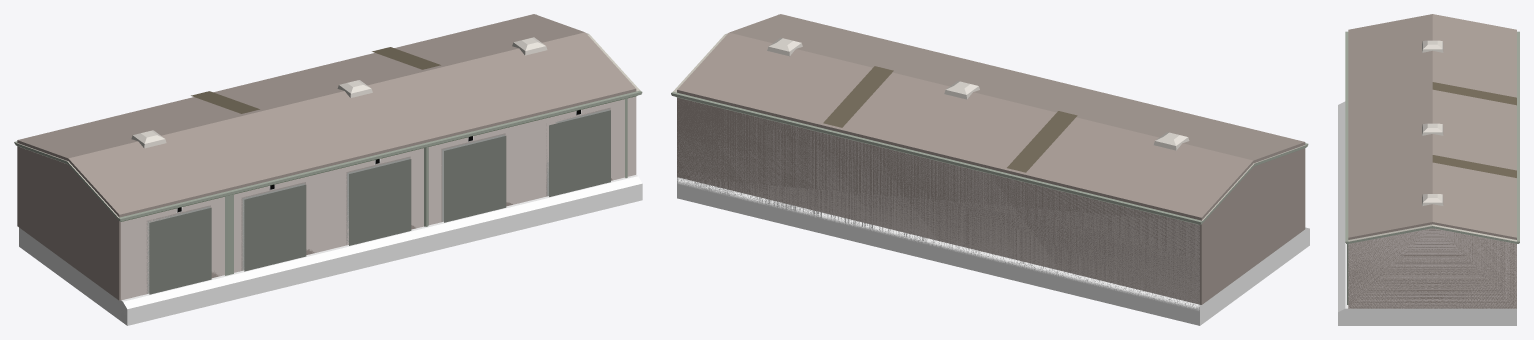
The model's file is s_warehouse_storage_5bay.dae.
The picture shows the model from 3 angles, left to right: view 1: azimuth 30°, elevation 25°; view 2: azimuth 150°, elevation 25°; view 3: azimuth 270°, elevation 25°; orthographic projection. The views are drawn at different scales.
Parts seen in each view (by area): view 1: warehouse_storage_a20, warehouse_storage_a300, warehouse_storage_a600, Colmesh-1; view 2: warehouse_storage_a20, warehouse_storage_a600, warehouse_storage_a300, Colmesh-1; view 3: warehouse_storage_a20, warehouse_storage_a300, Colmesh-1, warehouse_storage_a600.
Boxes of the visible parts, box(x1,y1,x2,y2) form: warehouse_storage_a20: box(17, 14, 636, 300); warehouse_storage_a300: box(14, 14, 642, 300); warehouse_storage_a600: box(19, 37, 641, 325); Colmesh-1: box(17, 42, 642, 325); warehouse_storage_a20: box(677, 14, 1305, 304); warehouse_storage_a600: box(677, 37, 1304, 325); warehouse_storage_a300: box(671, 14, 1308, 303); Colmesh-1: box(671, 43, 1309, 325); warehouse_storage_a20: box(1348, 14, 1516, 308); warehouse_storage_a300: box(1345, 31, 1519, 308); Colmesh-1: box(1338, 41, 1516, 325); warehouse_storage_a600: box(1338, 40, 1516, 325).
Size of the model in its own units: 23.11 by 8.45 by 5.52.
